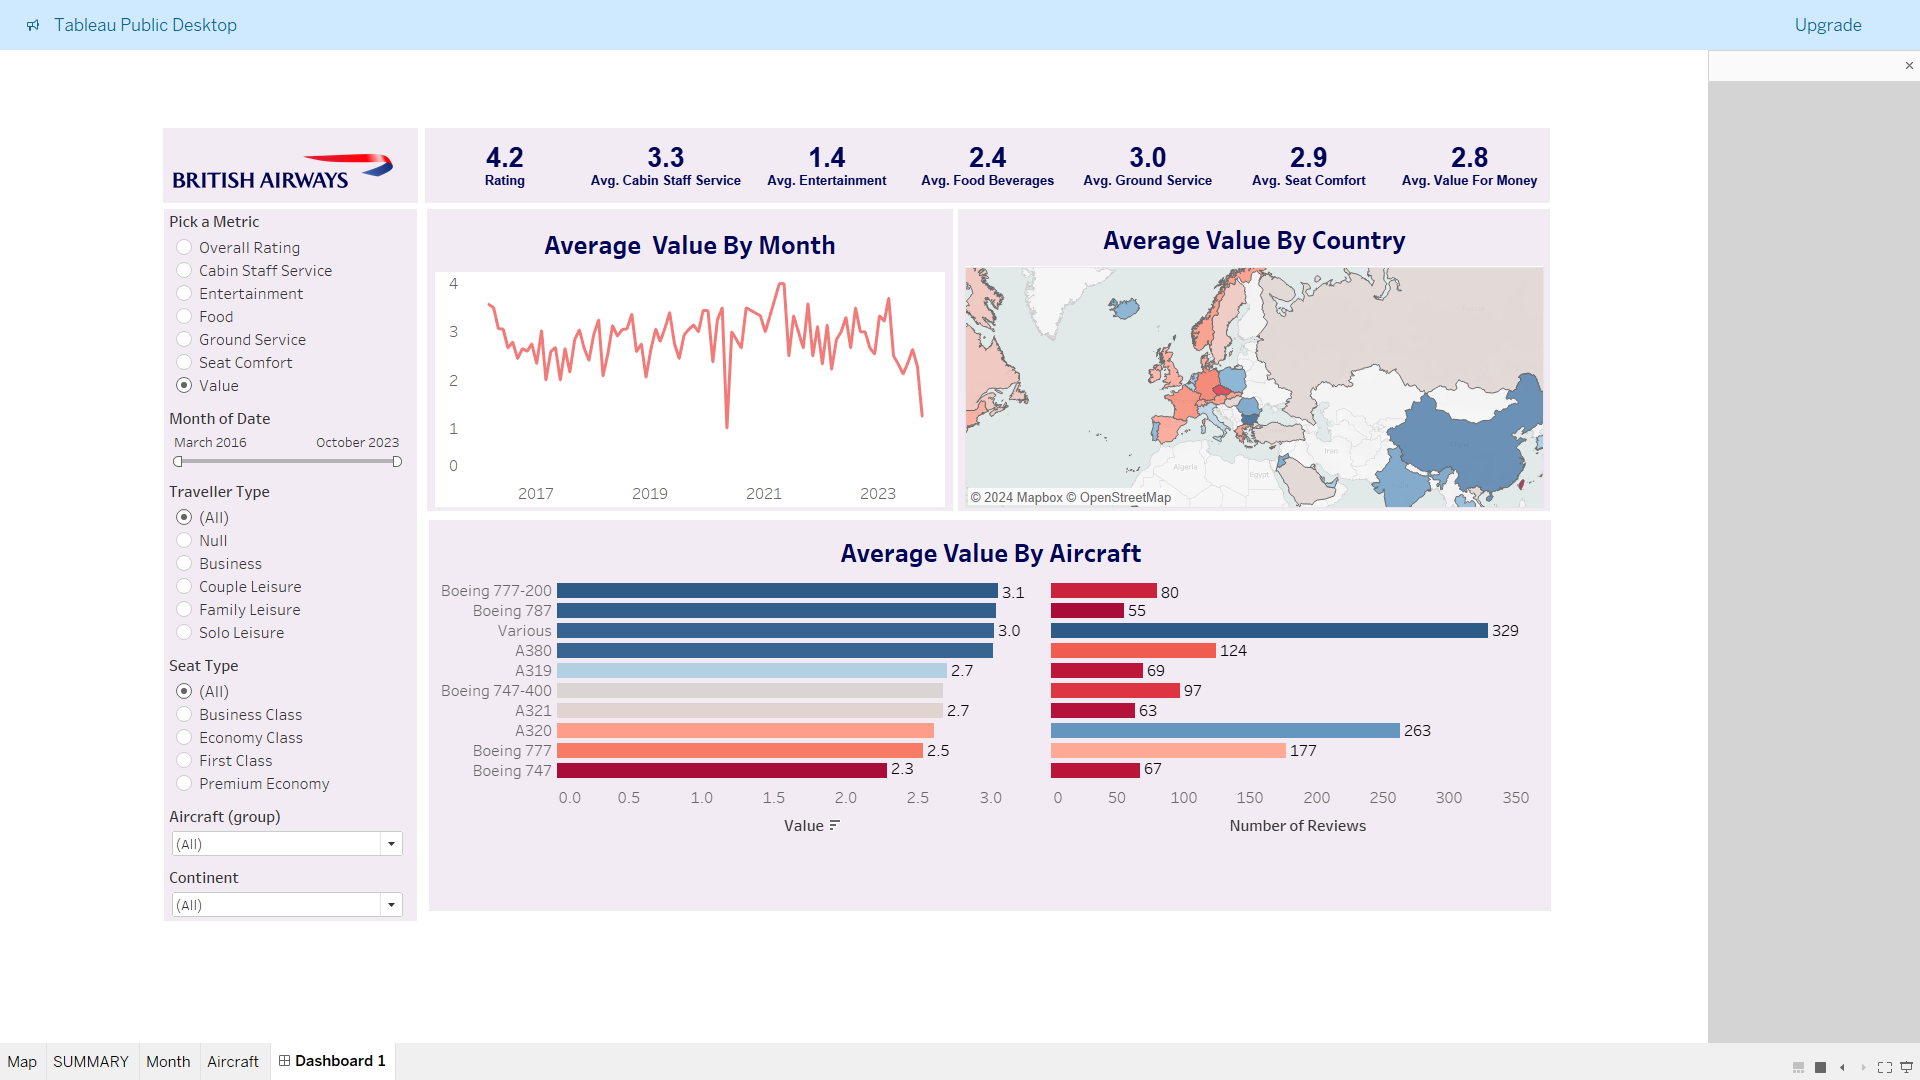

What the dashboard file says about the page in this screenshot:
{"tool":"tableau","page":{"name":"Dashboard 1","canvas":[1400,850],"ordinal":0},"visuals":[{"type":"blank","box":[5,3.2,263,82.9]},{"type":"worksheet","title":"SUMMARY","mark":"Automatic","box":[267,3.2,1133,82.9]},{"type":"image","param":"Image/kisspng-british-airways-salzburg-airport-airline-check-in-5ae44ee41b6136.6","box":[7,8.5,243,80.8]},{"type":"parameter","param":"[Parameters].[Parameter 1]","box":[11,85.7,245,197]},{"type":"blank","box":[10,88,253,712]},{"type":"blank","box":[273,88,526,302]},{"type":"blank","box":[804,88,592,302]},{"type":"worksheet","title":"Map","mark":"Multipolygon","box":[811,97,579,290]},{"type":"worksheet","title":"Month","mark":"Automatic","rows":["Calculation_1228075376476176384"],"cols":["date"],"box":[281,102,510,284]},{"type":"filter","title":"Map","param":"[federated.11w8srq1hapd9a16zyrw60xeq5wv].[tmn:date:qk]","box":[11,282.7,245,73]},{"type":"filter","title":"Map","param":"[federated.11w8srq1hapd9a16zyrw60xeq5wv].[none:traveller_type:nk]","box":[11,355.7,245,174]},{"type":"blank","box":[275,399,1122,391]},{"type":"worksheet","title":"Aircraft","mark":"Automatic","cols":["Calculation_1228075376476176384","ba_reviews.csv_7F308C2C09A4468E8A3DF4DBD58DF157"],"box":[283,410,1108,377]},{"type":"filter","title":"Map","param":"[federated.11w8srq1hapd9a16zyrw60xeq5wv].[none:seat_type:nk]","box":[11,529.7,245,151]},{"type":"filter","title":"Map","param":"[federated.11w8srq1hapd9a16zyrw60xeq5wv].[Aircraft (group)]","box":[11,680.7,245,61]},{"type":"filter","title":"Map","param":"[federated.11w8srq1hapd9a16zyrw60xeq5wv].[none:Continent:nk]","box":[11,741.7,245,61]}]}

Visuals, with their boxes on the page's 1400x850 design canvas (x1, y1, x2, y2). These are canvas units, not pixel positions in the 1920x1080 screenshot, which may show the page scaled, cropped or inside an application window:
blank: bbox=[5, 3, 268, 86]
"SUMMARY" worksheet: bbox=[267, 3, 1400, 86]
image: bbox=[7, 8, 250, 89]
parameter: bbox=[11, 86, 256, 283]
blank: bbox=[10, 88, 263, 800]
blank: bbox=[273, 88, 799, 390]
blank: bbox=[804, 88, 1396, 390]
"Map" worksheet (Multipolygon marks): bbox=[811, 97, 1390, 387]
"Month" worksheet: bbox=[281, 102, 791, 386]
"Map" filter: bbox=[11, 283, 256, 356]
"Map" filter: bbox=[11, 356, 256, 530]
blank: bbox=[275, 399, 1397, 790]
"Aircraft" worksheet: bbox=[283, 410, 1391, 787]
"Map" filter: bbox=[11, 530, 256, 681]
"Map" filter: bbox=[11, 681, 256, 742]
"Map" filter: bbox=[11, 742, 256, 803]
